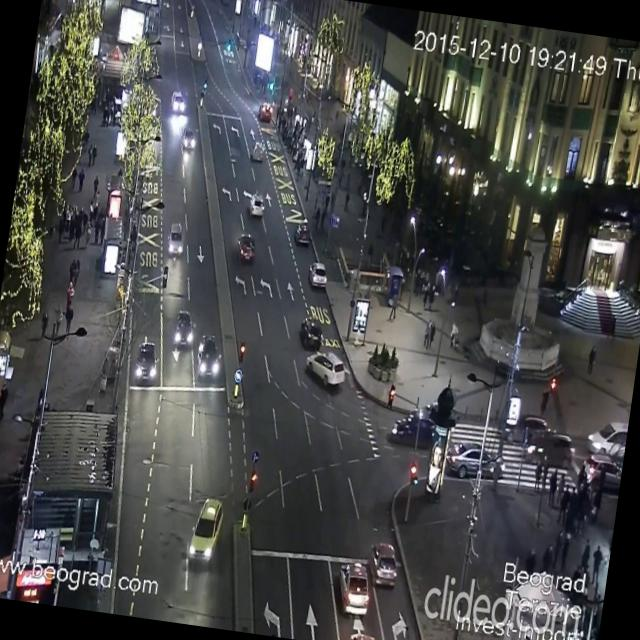car: (390, 406, 450, 452), (187, 495, 226, 565), (334, 560, 374, 618), (445, 440, 500, 480), (584, 418, 628, 460), (303, 348, 348, 388), (365, 540, 401, 589), (502, 413, 548, 451), (526, 430, 570, 468), (578, 454, 622, 488), (194, 333, 224, 380), (133, 339, 160, 382), (171, 309, 197, 353), (296, 314, 326, 348), (166, 221, 187, 258), (234, 232, 257, 264), (306, 260, 329, 289), (178, 125, 198, 152), (293, 220, 312, 247), (168, 89, 188, 114), (247, 190, 266, 216), (258, 104, 275, 122), (250, 144, 263, 162), (347, 633, 380, 640)
